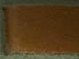redbrick: (1, 1, 79, 59)
